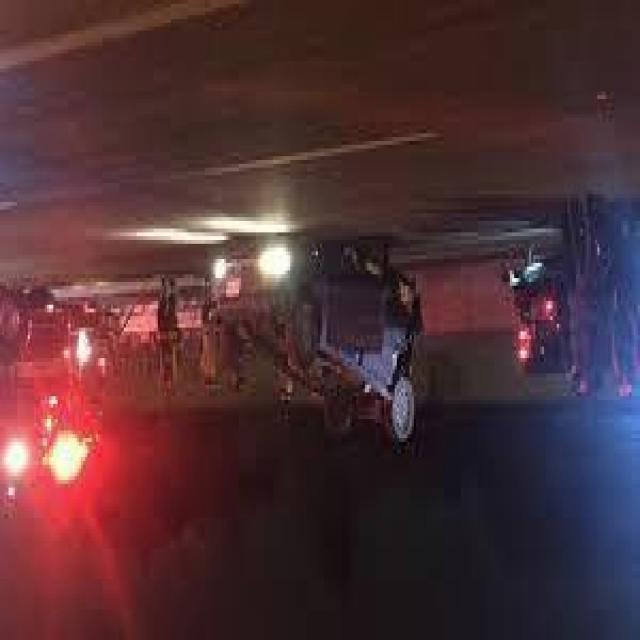severe: (204, 230, 428, 452)
